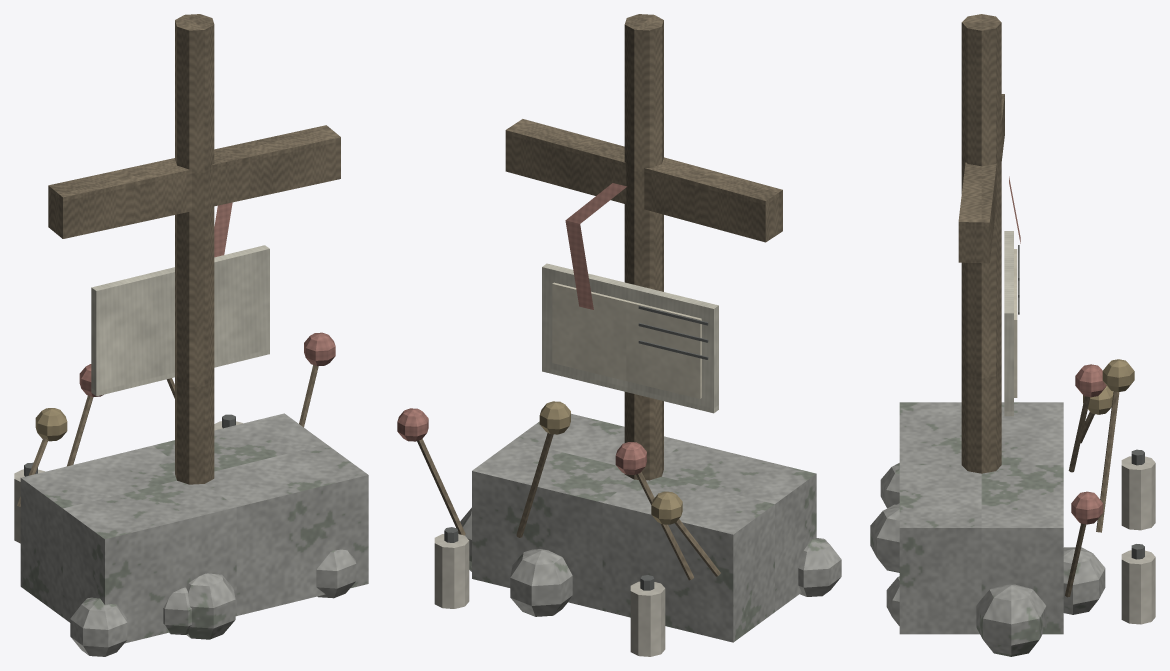
File: roadside_memorial.glb
3 views of the same model, side by side, from view 1: azimuth 30°, elevation 25°; view 2: azimuth 150°, elevation 25°; view 3: azimuth 270°, elevation 25° (orthographic). The views are drawn at different scales.
Visible parts, largest first — view 1: AshfallDecorativeProp; view 2: AshfallDecorativeProp; view 3: AshfallDecorativeProp.
Boxes of the visible parts, <box> form: AshfallDecorativeProp: <box>14,14,368,656</box>; AshfallDecorativeProp: <box>397,14,841,656</box>; AshfallDecorativeProp: <box>870,14,1155,656</box>.
Size of the model in its own units: 1.01 by 1.6 by 0.7301.
9 materials, 9 textured.
